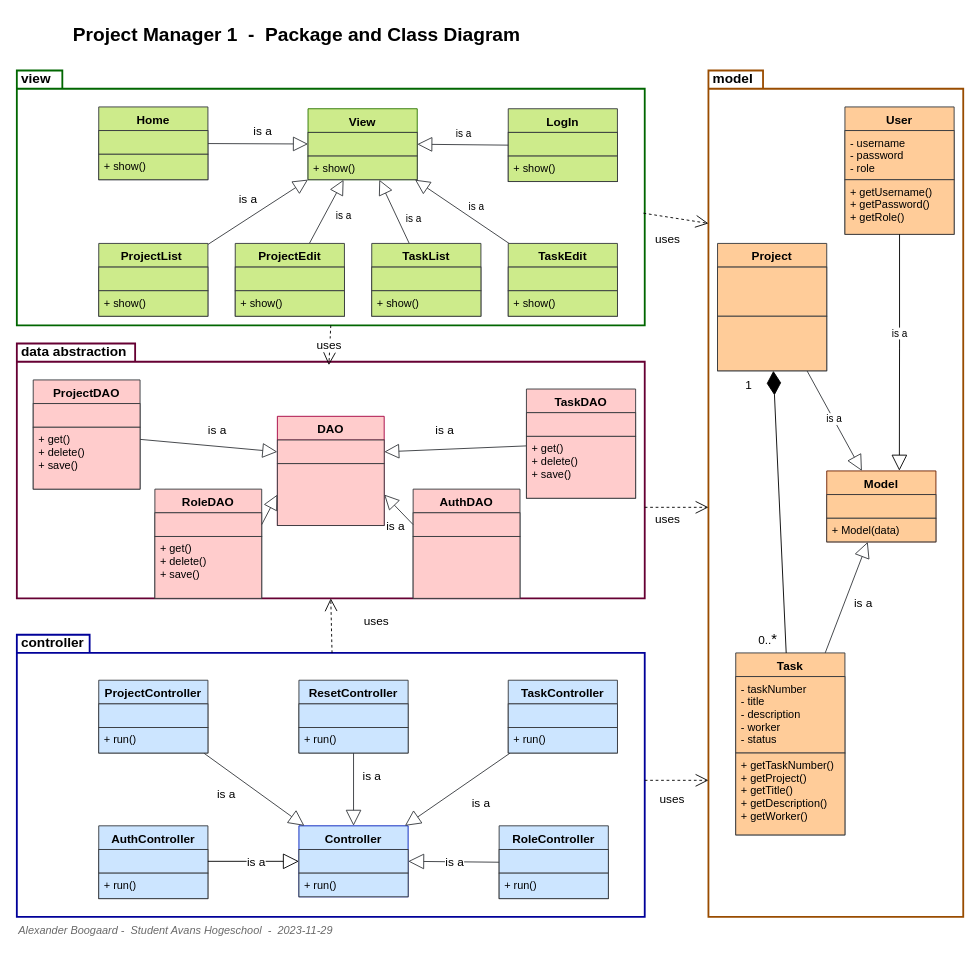
Some shapes in this 979 by 959 pixel diagram are drawn without their labels. Here are the shapes that lost their labels. From the top down, the centre of each, then its label:
At point 772,291: "- title - description - owner".
At point 772,343: "+ getTitle() + getDescription + getOwner()".
At point 330,494: "+ startListSql() + getObjectSql() + hasNext() + getNext()".
At point 466,567: "+ getUser()".
